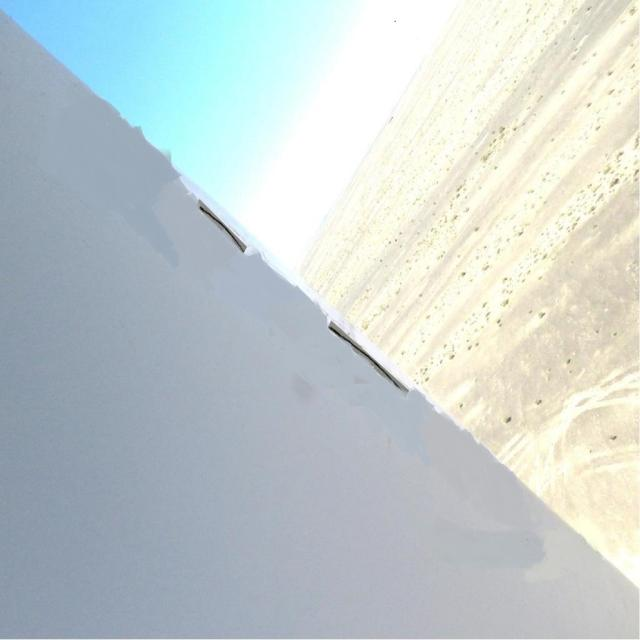crack: (329, 324, 408, 392), (195, 200, 243, 249)
